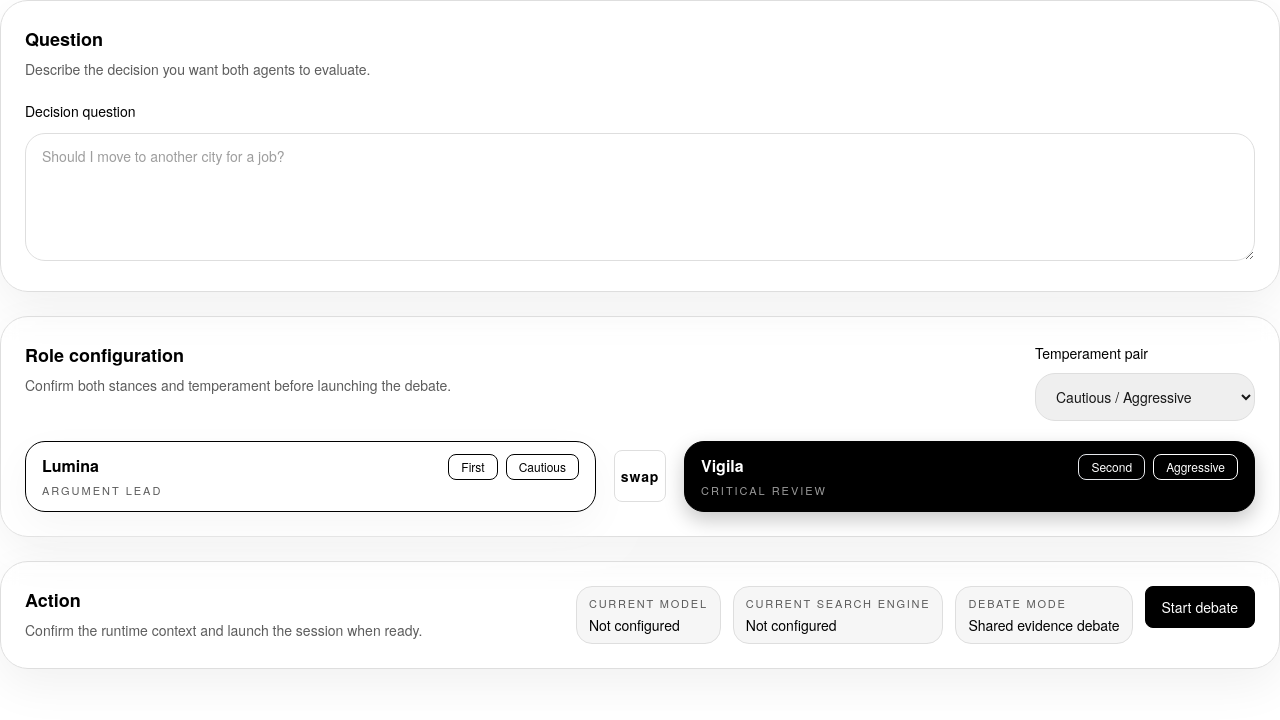
Scenario: QuestionForm › keeps a ten-character minimum for English decision questions
This screenshot has width=1280, height=720.
Type "Move now?" into the text box labelled "Decision question" at (640,197), box [25,133,1255,261]
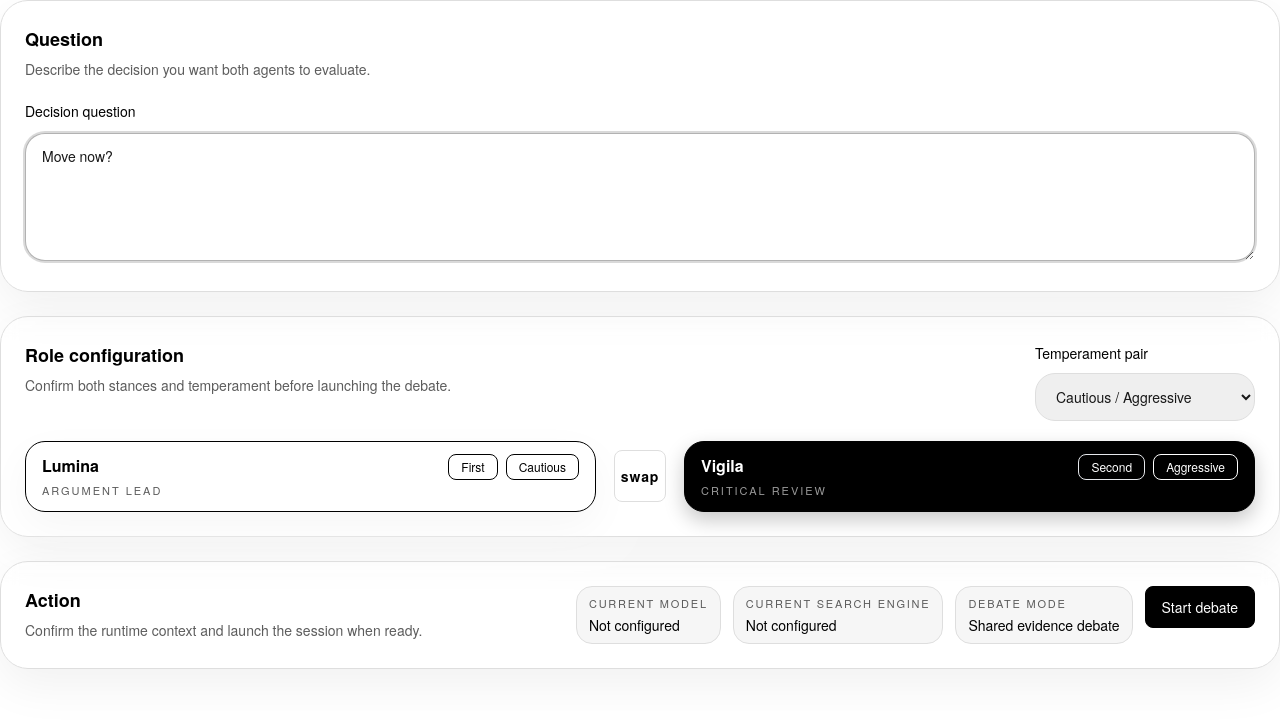
Click the button "Start debate" at (1200,606), box [1145,586,1255,628]
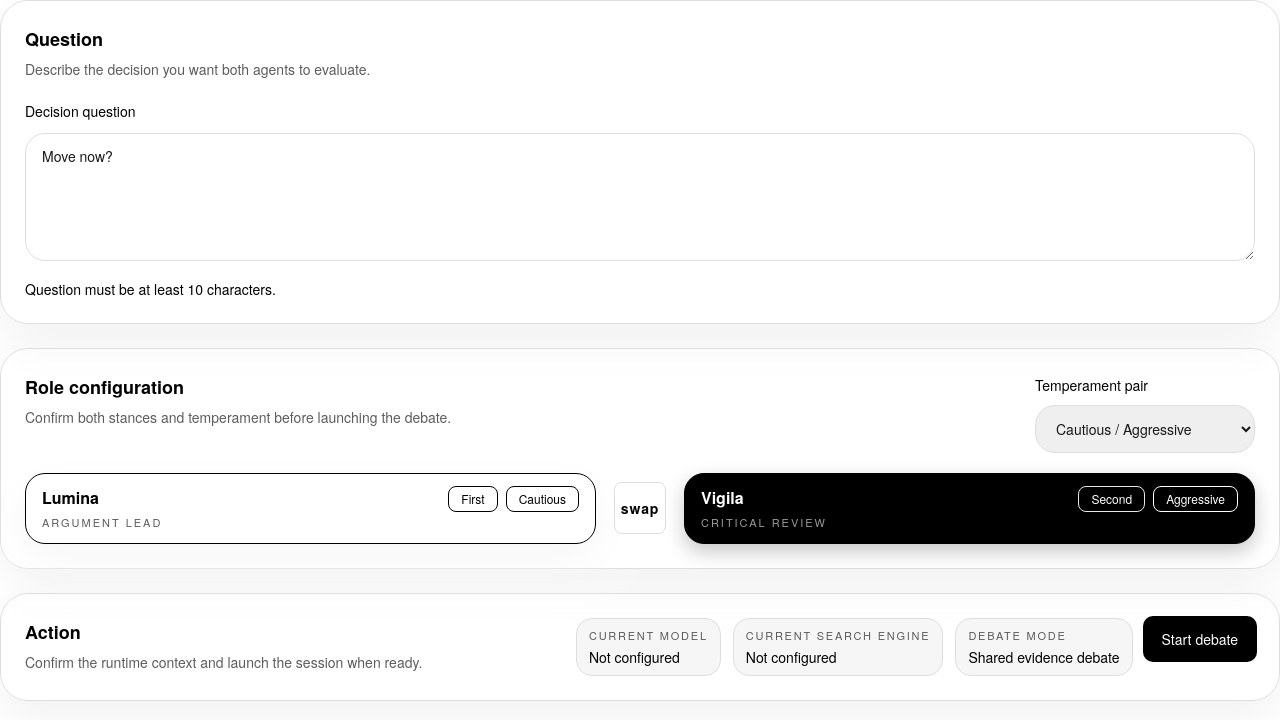
Check: the message reads "Question must be at least 10 characters.", box [25,279,276,299]
